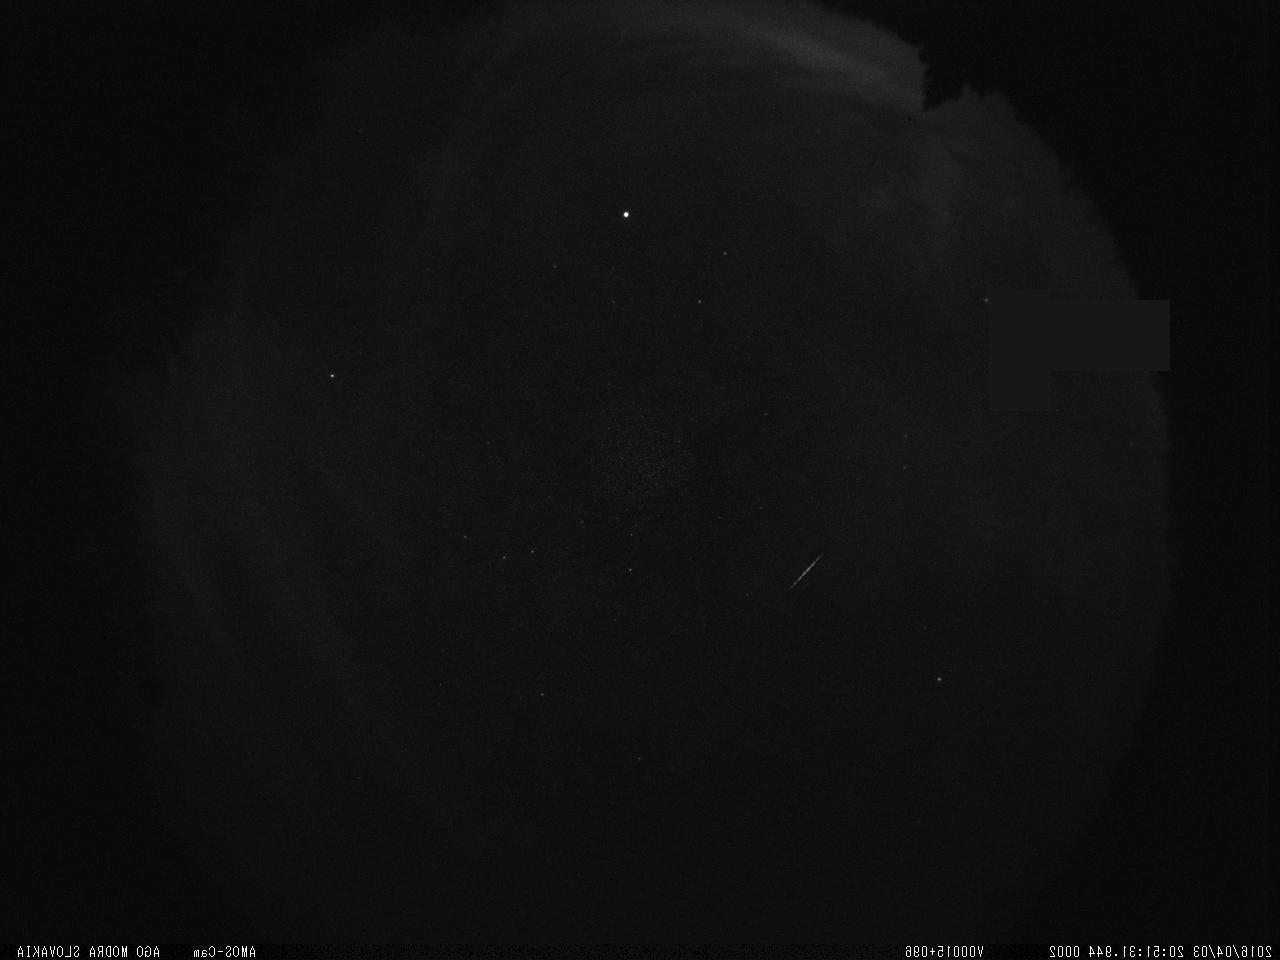meteor: (772, 536, 841, 605)
